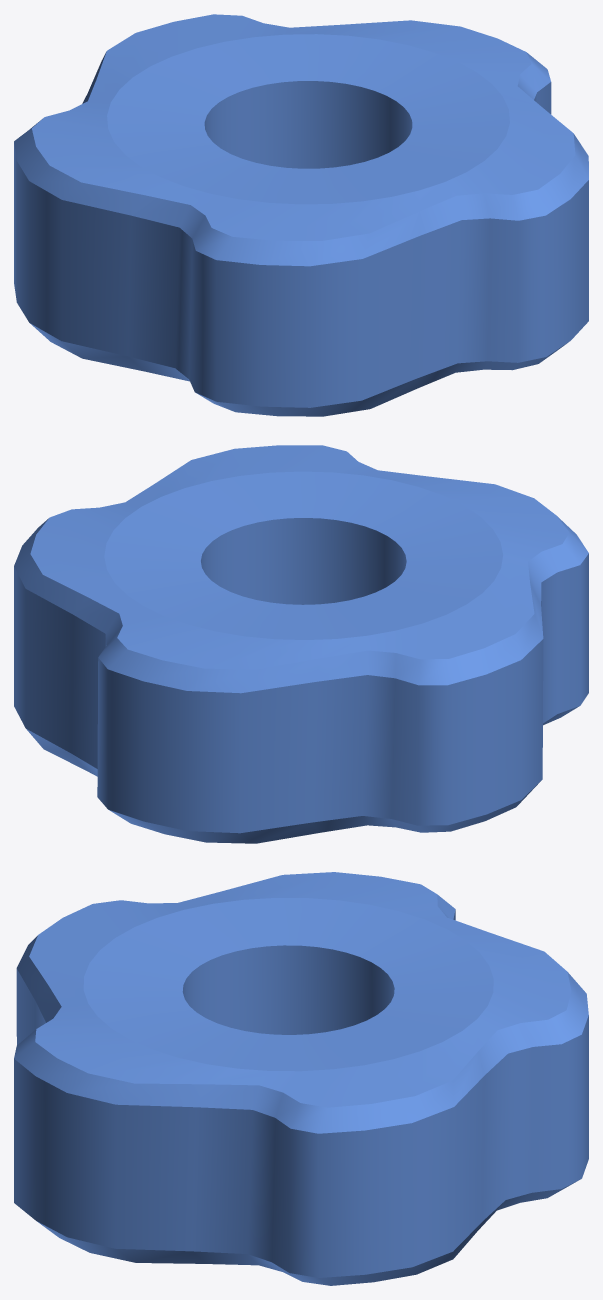
Rendered from Nut 4.fbx.
The picture shows the model from 3 angles, top to bottom: view 1: azimuth 30°, elevation 25°; view 2: azimuth 150°, elevation 25°; view 3: azimuth 270°, elevation 25°; orthographic projection. The views are drawn at different scales.
Parts seen in each view (by area): view 1: Circle.006; view 2: Circle.006; view 3: Circle.006.
Boxes of the visible parts, bbox=[...] form: Circle.006: bbox=[14, 14, 588, 416]; Circle.006: bbox=[14, 445, 588, 843]; Circle.006: bbox=[14, 872, 588, 1285].
Size of the model in its own units: 1.95 by 0.6707 by 1.9.
